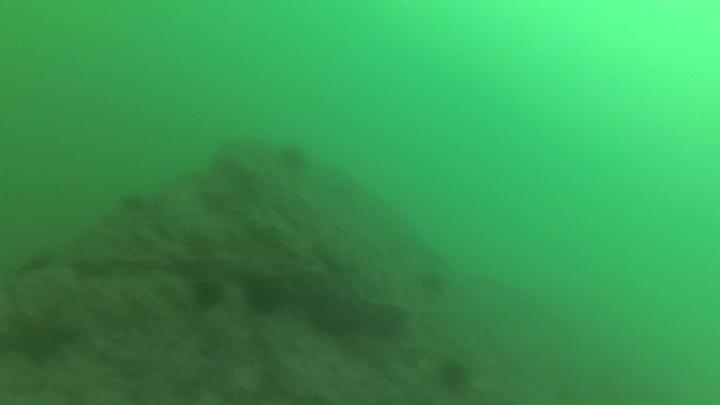echinus: (240, 275, 286, 318), (435, 356, 472, 392), (189, 277, 226, 312), (415, 268, 449, 301), (276, 141, 310, 173), (117, 190, 148, 216)
starfish: (2, 303, 80, 367), (69, 254, 117, 284)
